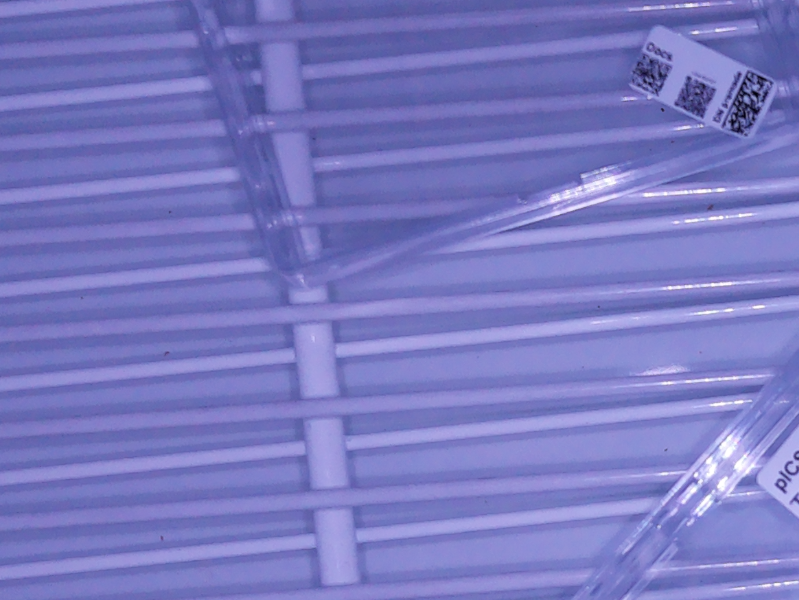plate: (185, 1, 799, 293), (560, 341, 799, 600)
